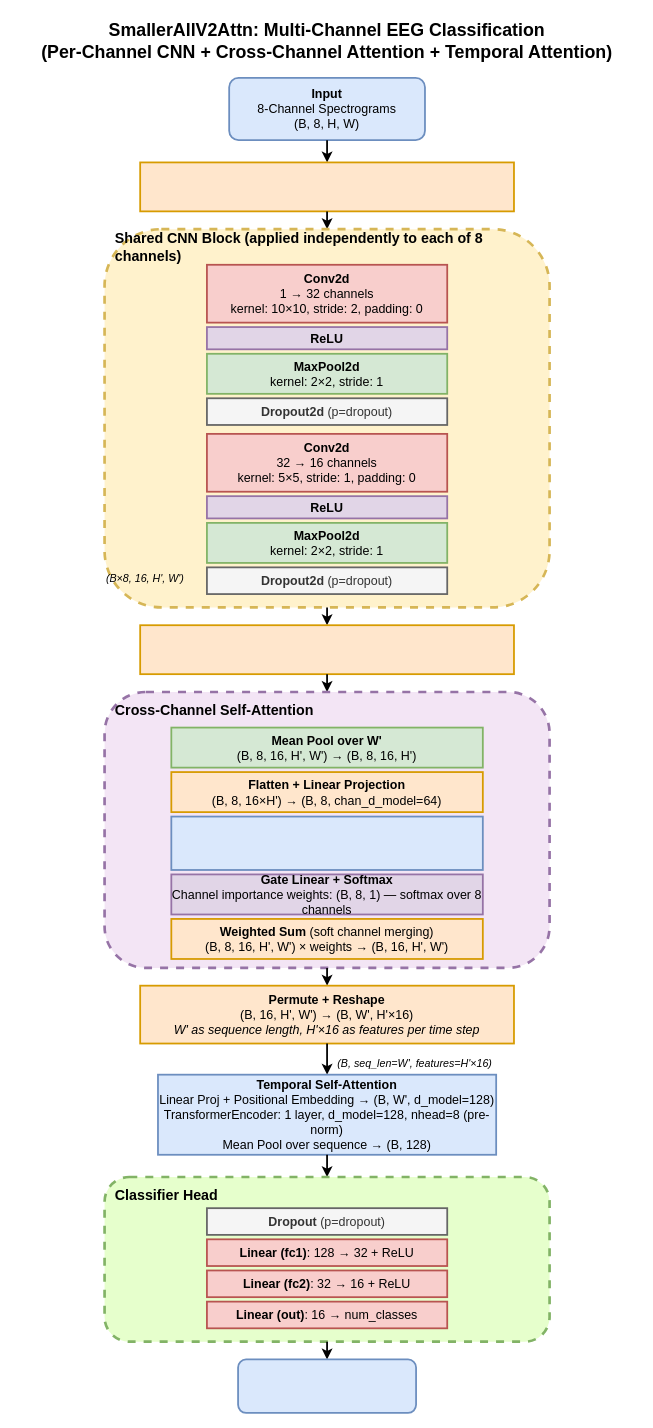
This 653x1428 diagram has some shape labels left out. The box of each missing label's shape, as (x1, y1, x2, y2) in pixels:
Output Logits (B, num_classes): (237, 1358, 417, 1413)
Reshape Back to Channel Dimension (B×8, 16, H', W') → (B, 8, 16, H', W'): (139, 624, 514, 675)
Reshape for Per-Channel Processing (B, 8, H, W) → (B×8, 1, H, W): (139, 161, 514, 212)
TransformerEncoder d_model=64, nhead=4, 1 layer (pre-norm) (B, 8, 64): (170, 815, 483, 870)
